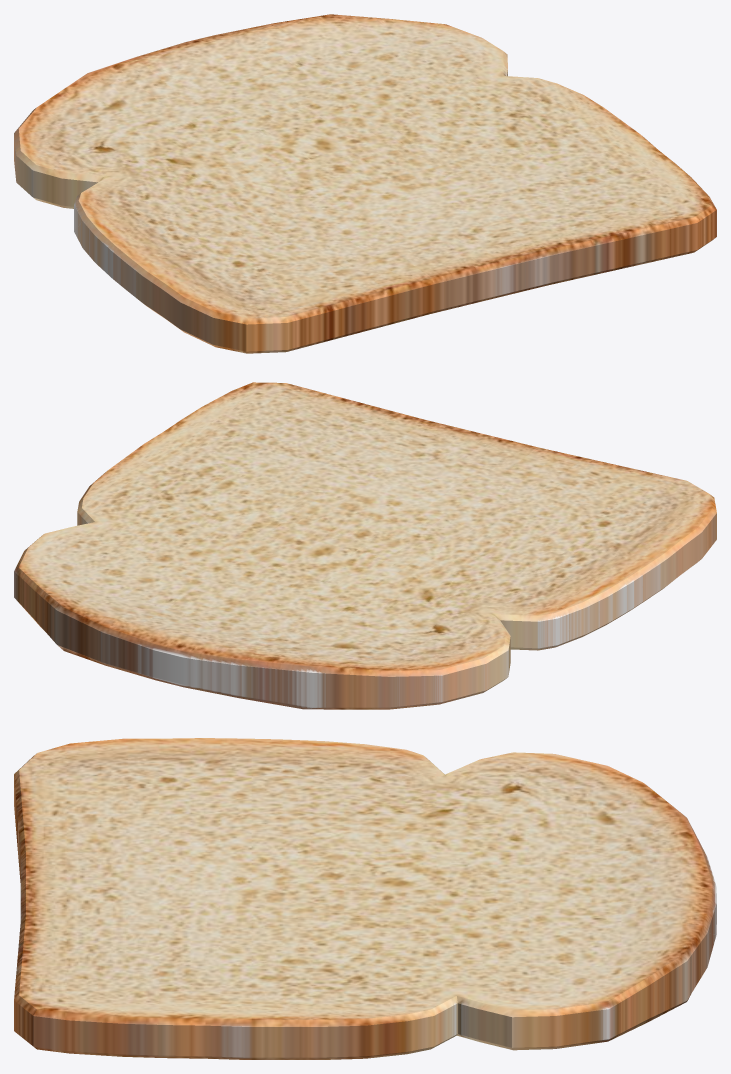
File: breadSlice.fbx
3 views of the same model, one above another, from view 1: azimuth 30°, elevation 25°; view 2: azimuth 150°, elevation 25°; view 3: azimuth 270°, elevation 25° (orthographic). The views are drawn at different scales.
Visible parts, largest first — view 1: breadSlice; view 2: breadSlice; view 3: breadSlice.
Boxes of the visible parts, left/top/right/bottom form: breadSlice: left=14, top=14, right=716, bottom=353; breadSlice: left=14, top=382, right=716, bottom=709; breadSlice: left=14, top=738, right=716, bottom=1059.
Bounding box in the file's own units: 11.24 × 0.9131 × 11.66.
1 material, 1 textured.
